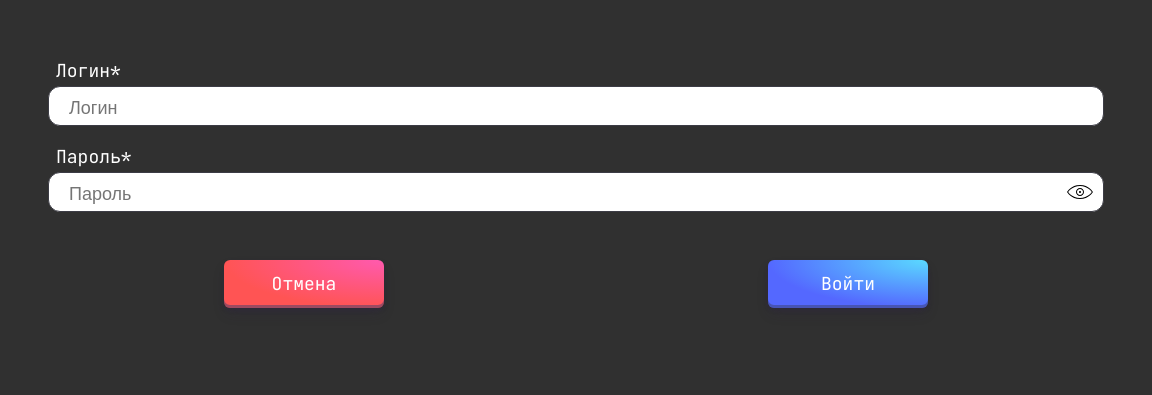
Scenario: AuthModal Login component tests › Submit showed error because inputs were empty
The width and height of the screenshot is (1152, 395).
Click the button "Войти" at (848, 284), box [768,260,928,308]
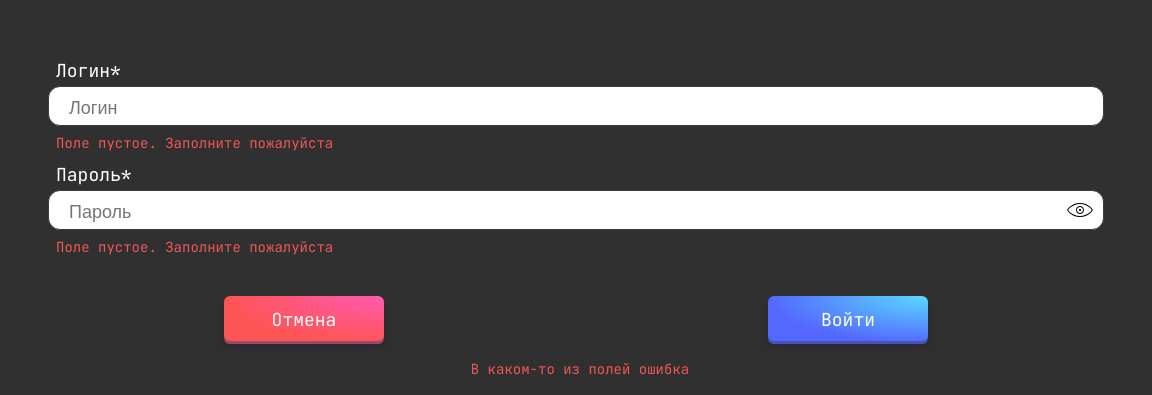
Check: the text "В каком-то из полей ошибка" is shown, box [463,360,689,378]
